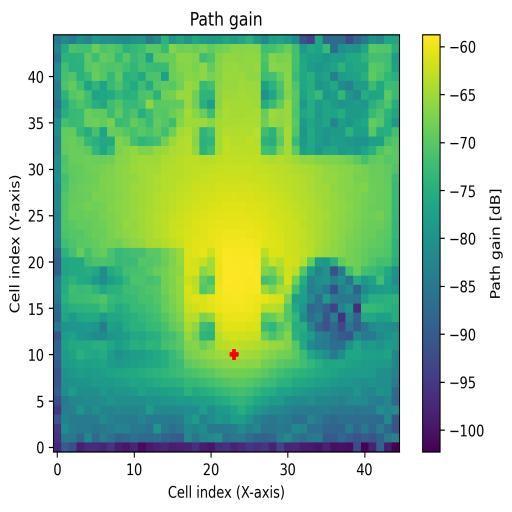Concrete: (300, 50, 368, 154)
Glass: (108, 52, 184, 156)
Metal: (292, 256, 368, 360)
Wood: (107, 248, 184, 368)
